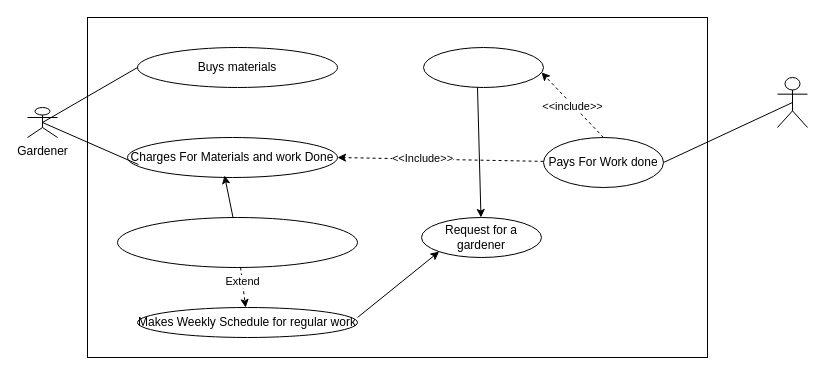
This 836x375 diagram has some shape labels left out. Each missing label, with the centre of its shape:
"Customer" belongs at pixel 792 102.
"Makes appointments" belongs at pixel 483 67.
"Sends Invoices at the end of the month" belongs at pixel 237 242.
